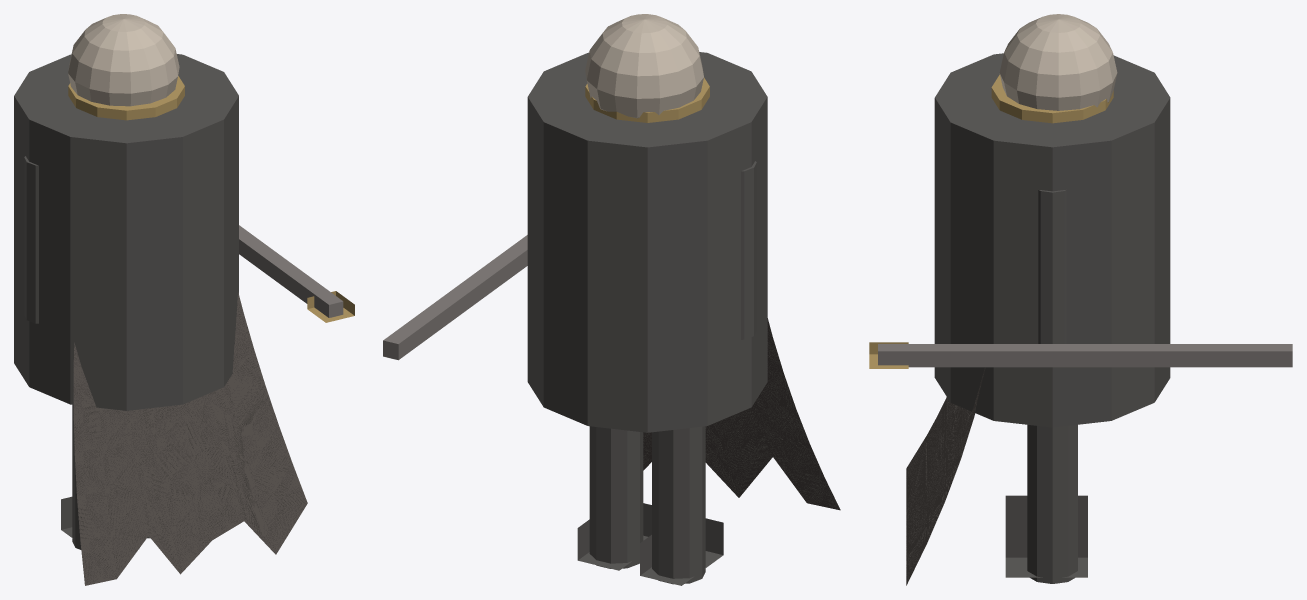
Rendered from the_first_ember.glb.
3 views of the same model, side by side, from view 1: azimuth 30°, elevation 25°; view 2: azimuth 150°, elevation 25°; view 3: azimuth 270°, elevation 25° (orthographic). The views are drawn at different scales.
Visible parts, largest first — view 1: the_first_ember; view 2: the_first_ember; view 3: the_first_ember.
Part boxes in pixels (x1=…): the_first_ember: x1=14, y1=14, x2=354, y2=585; the_first_ember: x1=383, y1=14, x2=840, y2=585; the_first_ember: x1=869, y1=14, x2=1292, y2=585.
Size of the model in its own units: 1.4 by 2.72 by 1.94.
